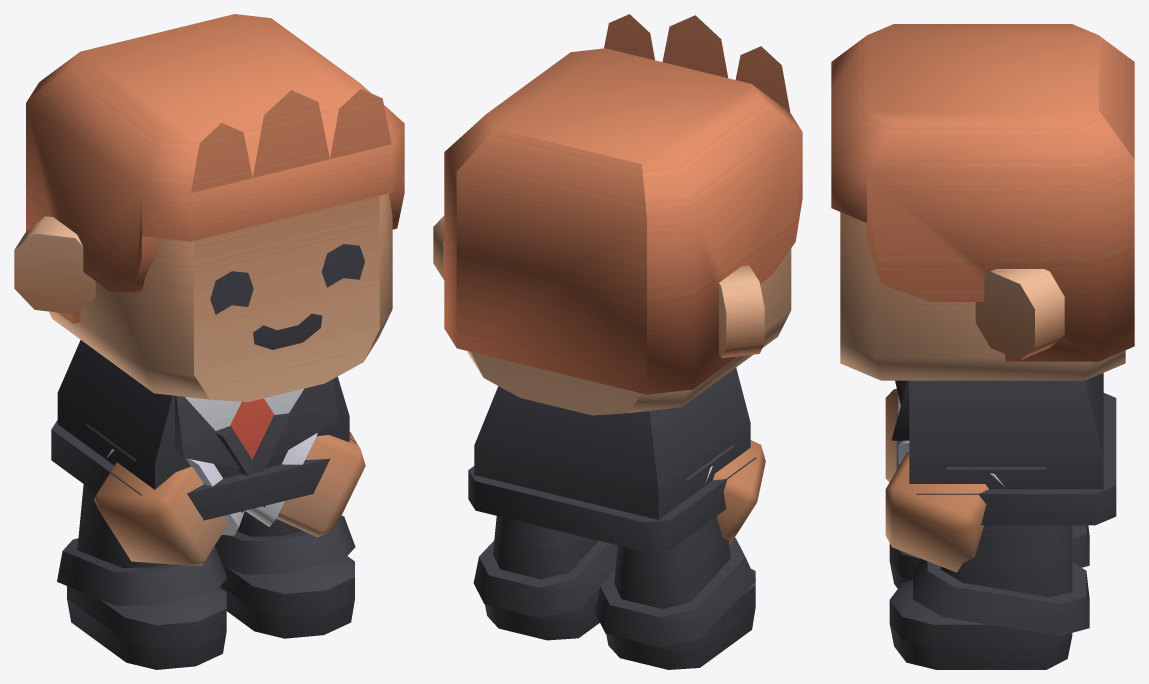
File: character-male-d-cheer.glb
3 views of the same model, side by side, from view 1: azimuth 30°, elevation 25°; view 2: azimuth 150°, elevation 25°; view 3: azimuth 270°, elevation 25° (orthographic). The views are drawn at different scales.
Parts seen in each view (by area): view 1: character-male-d-cheer; view 2: character-male-d-cheer; view 3: character-male-d-cheer.
Boxes of the visible parts, x1,y1,x2,y2 form: character-male-d-cheer: [14, 14, 404, 669]; character-male-d-cheer: [433, 14, 802, 669]; character-male-d-cheer: [831, 24, 1134, 669].
Bounding box in the file's own units: 0.4535 × 0.7218 × 0.34.
1 material, 1 textured.
